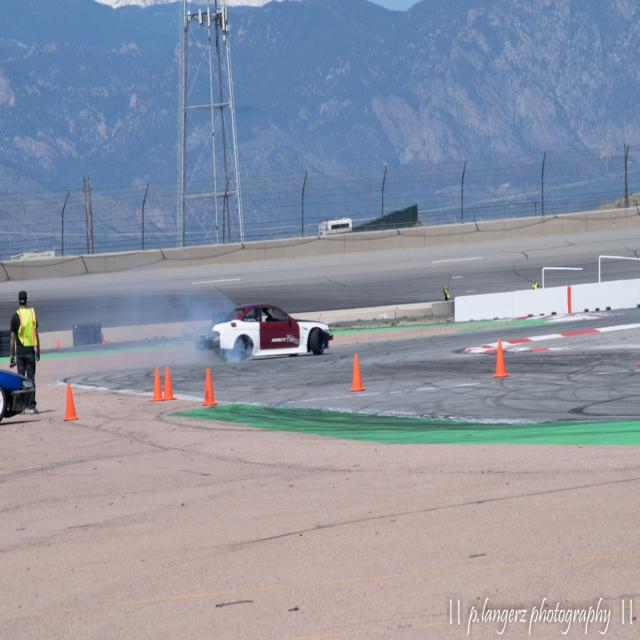car: (196, 303, 333, 358)
